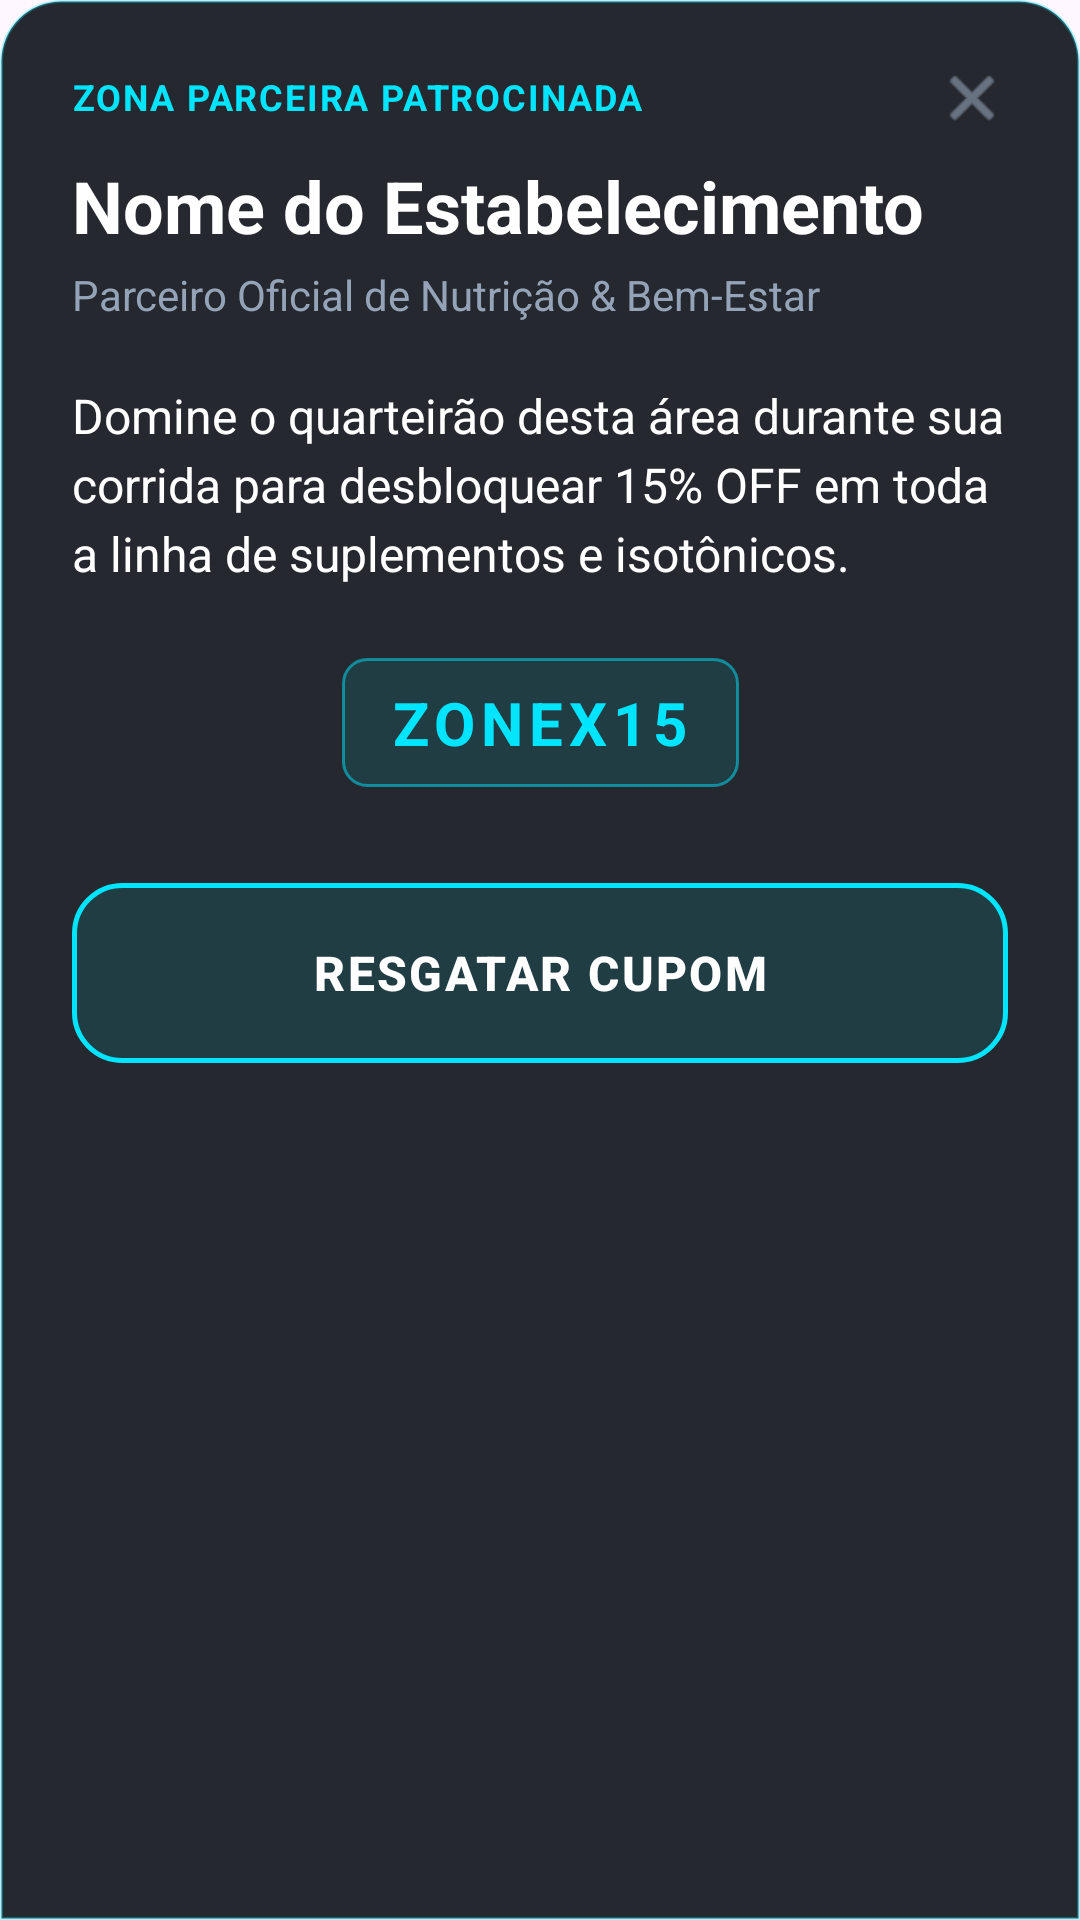

Screen size 1080*1920. Icon name, then its center in pixels as (x=x, y=y):
Fechar: (x=972, y=98)
